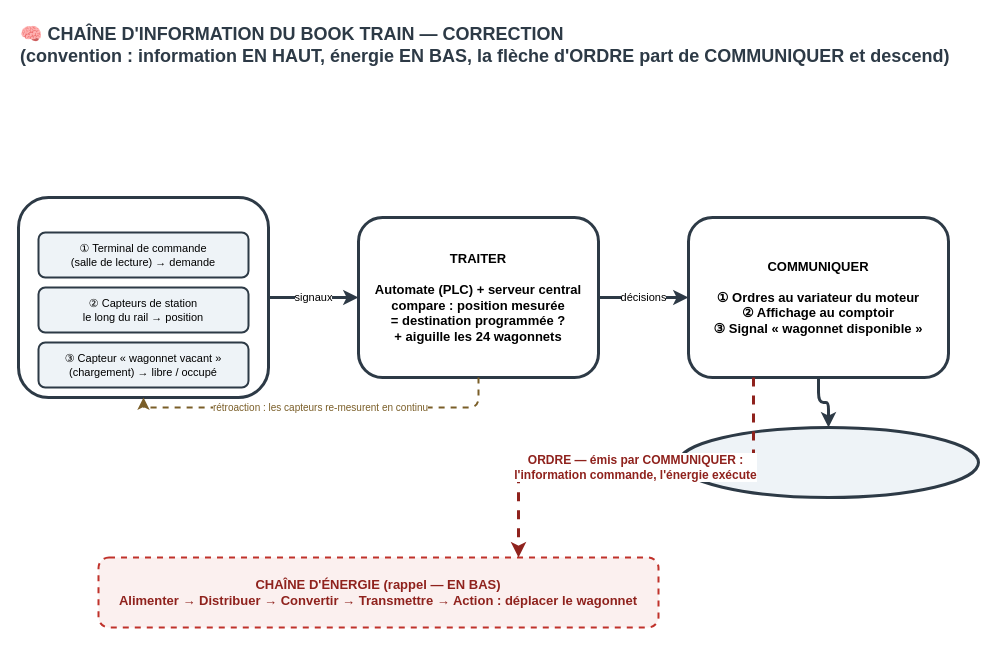
This 997x645 diagram has some shape labels left out. Here are the shapes that lost their labels. From the top down, the box of each, then its label:
(16, 196, 270, 398): ACQUÉRIR
(676, 426, 980, 498): 📚 INFORMATION UTILE : le livre demandé est arrivé au comptoir du 3ᵉ étage
